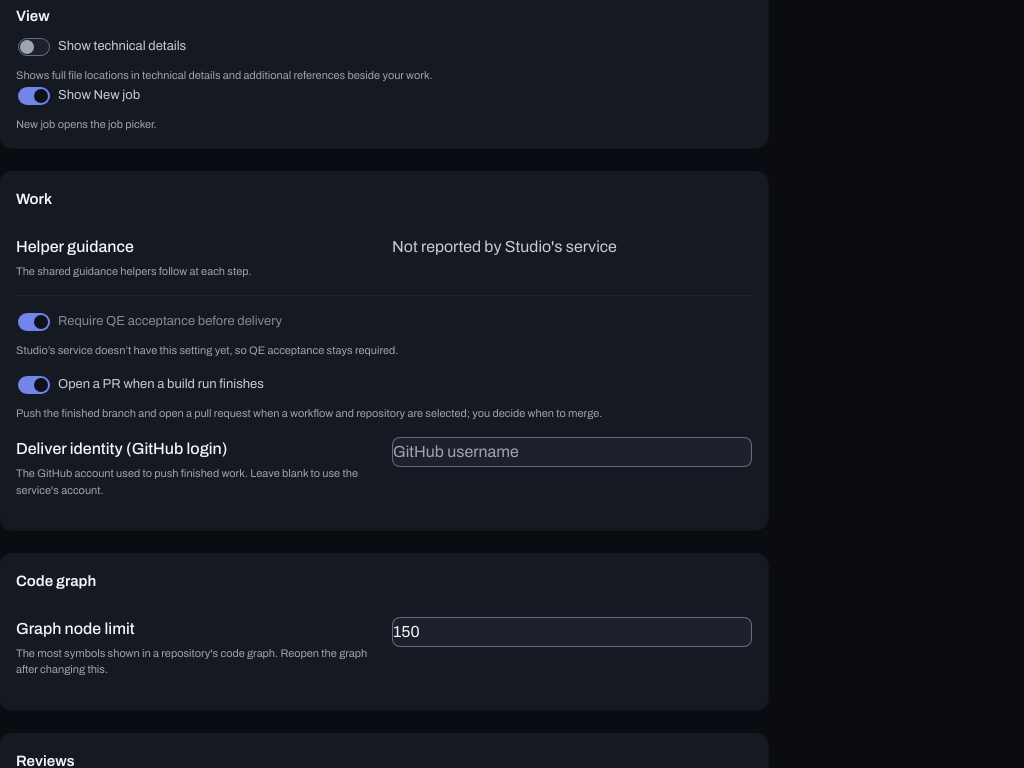
Test: SystemSettings — Runs (#123) › an unfixed daemon that drops the key (crew#323) says so instead of looking saved
(page scrolled)
Click the switch with test id "deliver-pr-toggle": (141, 384) [16,372,266,396]
Wait 10400 ms
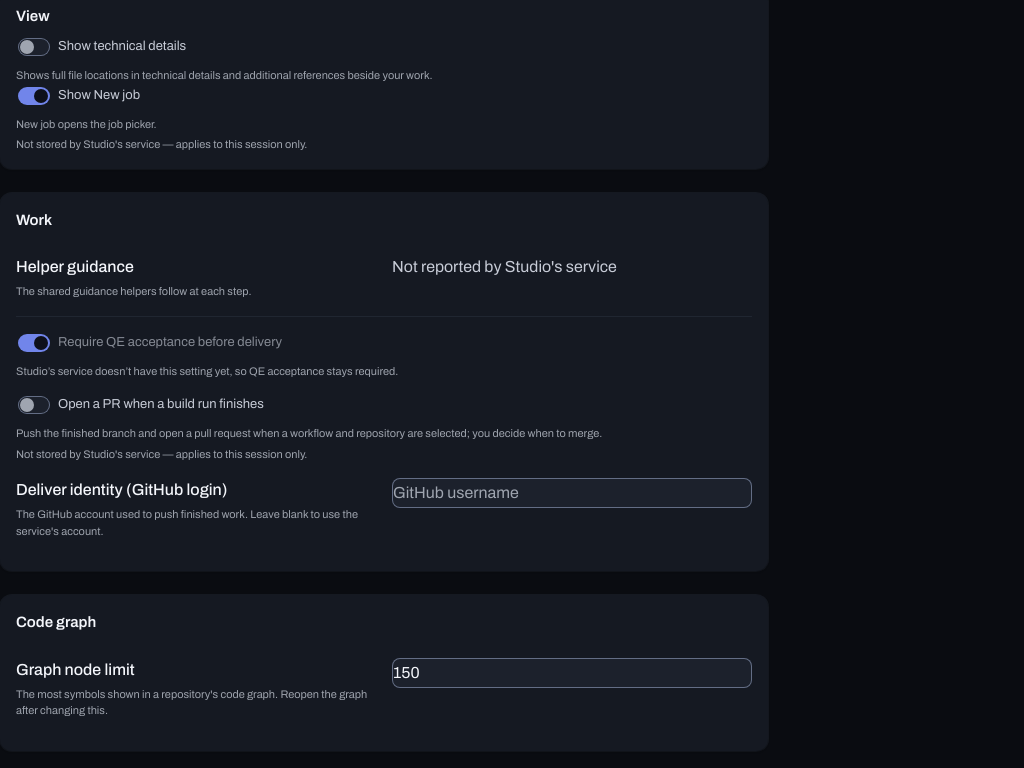
Check: the switch with test id "deliver-pr-toggle" is not checked, box [16,393,266,417]
Check: the text with test id "deliver-pr-unsaved" shows "applies to this session only", box [16,448,307,460]
